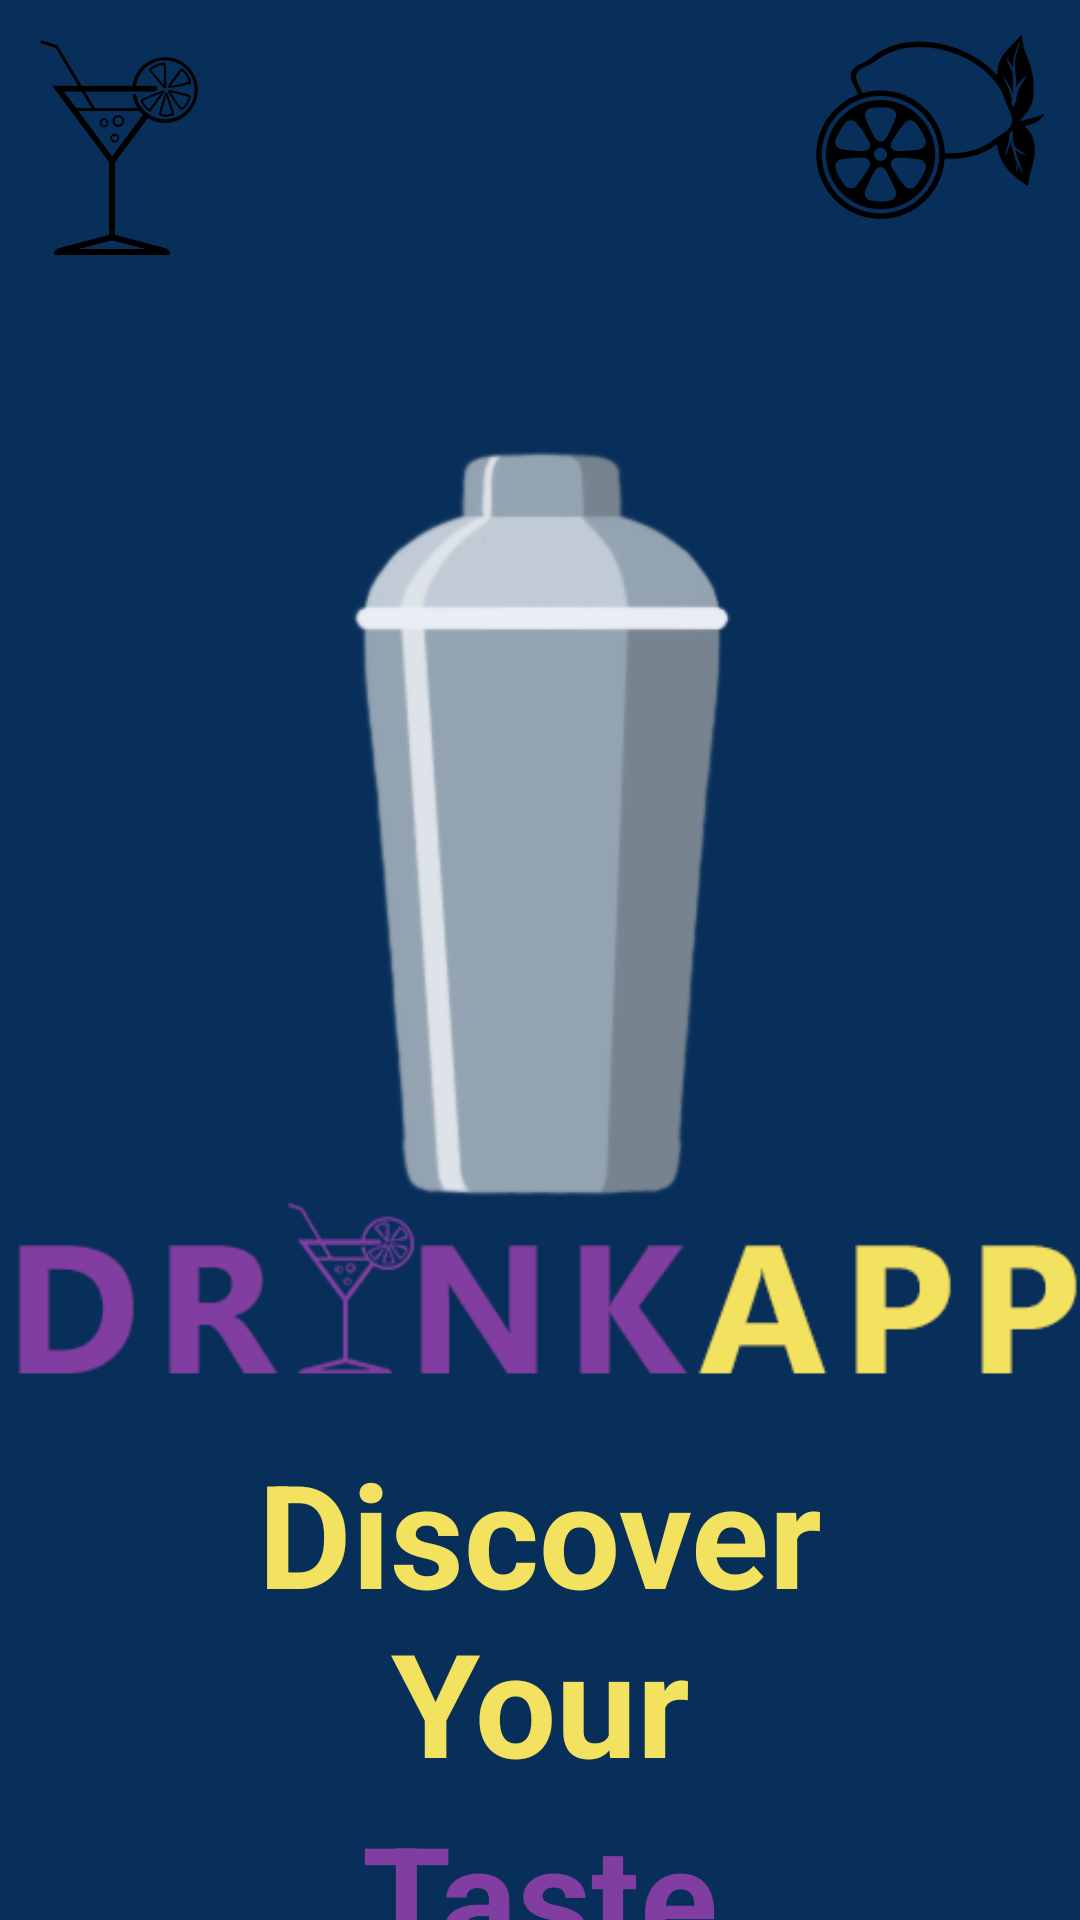

Icon bounding boxes for this 1080x1920 phone screenshot, format (x1, y1, x2, y2):
drink glass: (40, 40, 198, 255)
ingredient: (816, 36, 1044, 219)
